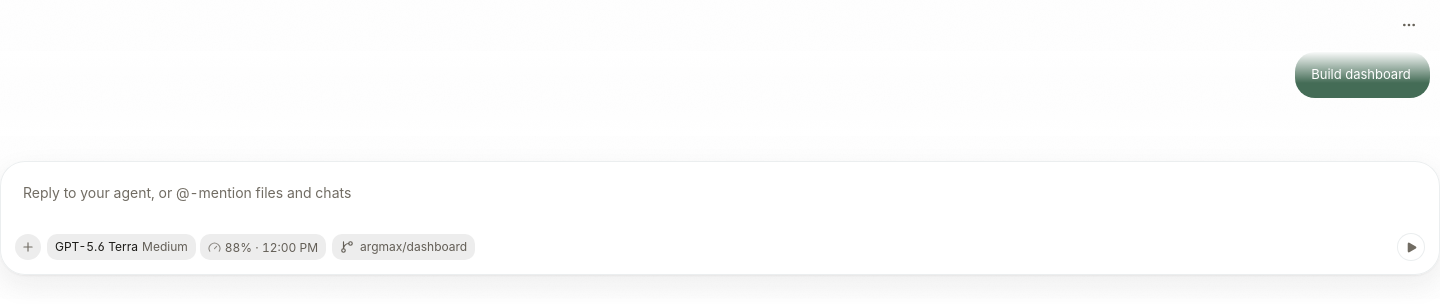
Test case: SessionConversation — tools & chrome › drops the debug log from chat actions when developer tools are off
What coordinates should you click on to do the following:
click the button named "Chat actions"
I would click on:
 (1409, 25)
Its box is 1398,14 -> 1420,36.
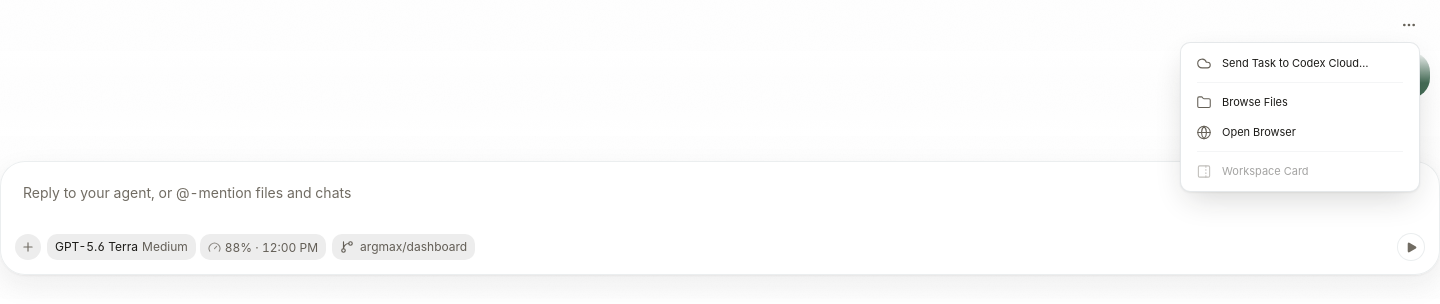
Expected: the menu item "Browse Files" is shown, 1187,88 -> 1413,116
